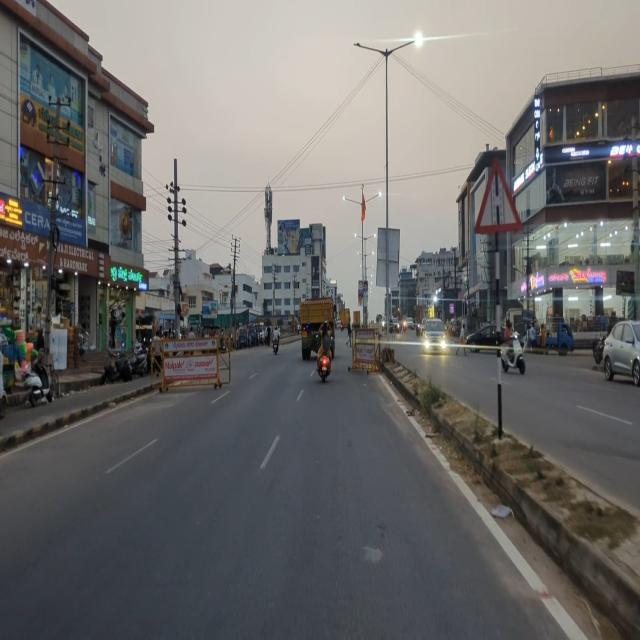bien_cam: (471, 156, 525, 242)
